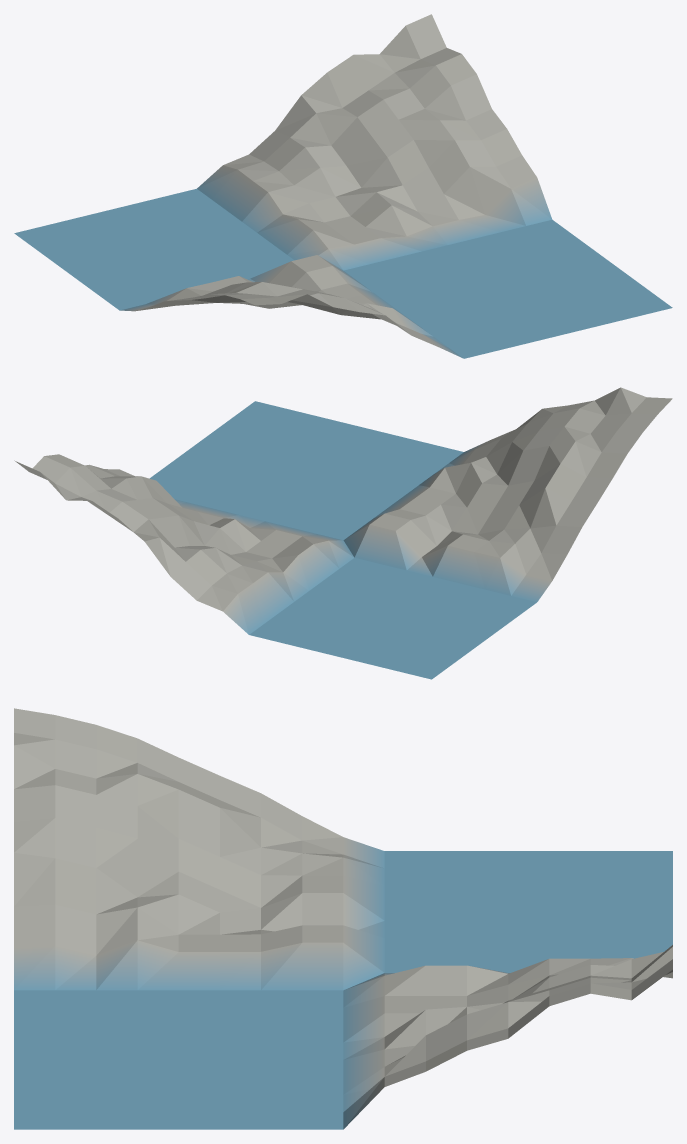
3 renders of one model, top to bottom at view 1: azimuth 30°, elevation 25°; view 2: azimuth 150°, elevation 25°; view 3: azimuth 270°, elevation 25°, orthographic. The views are drawn at different scales.
Size of the model in its own units: 32 by 8.58 by 32.
